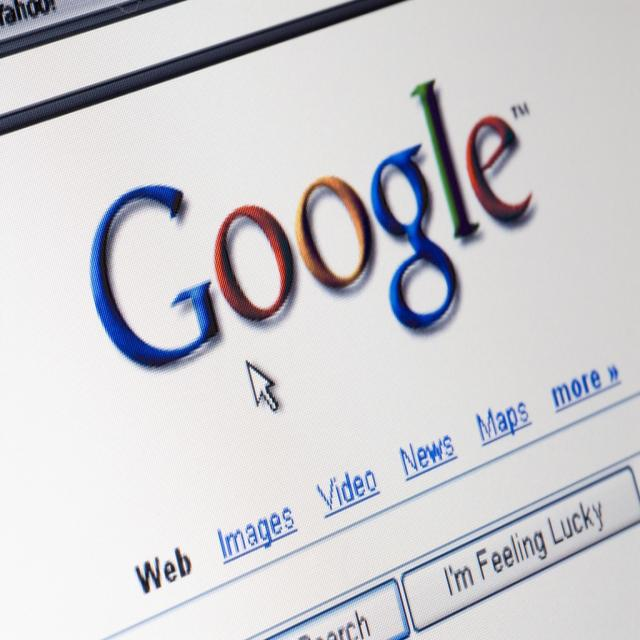google: (84, 69, 539, 378)
